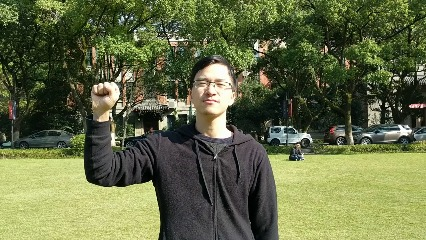fist: (88, 81, 121, 113)
